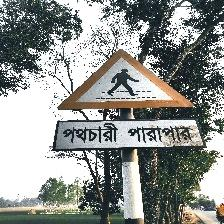Pedestrian-crossing: (55, 48, 202, 143)
